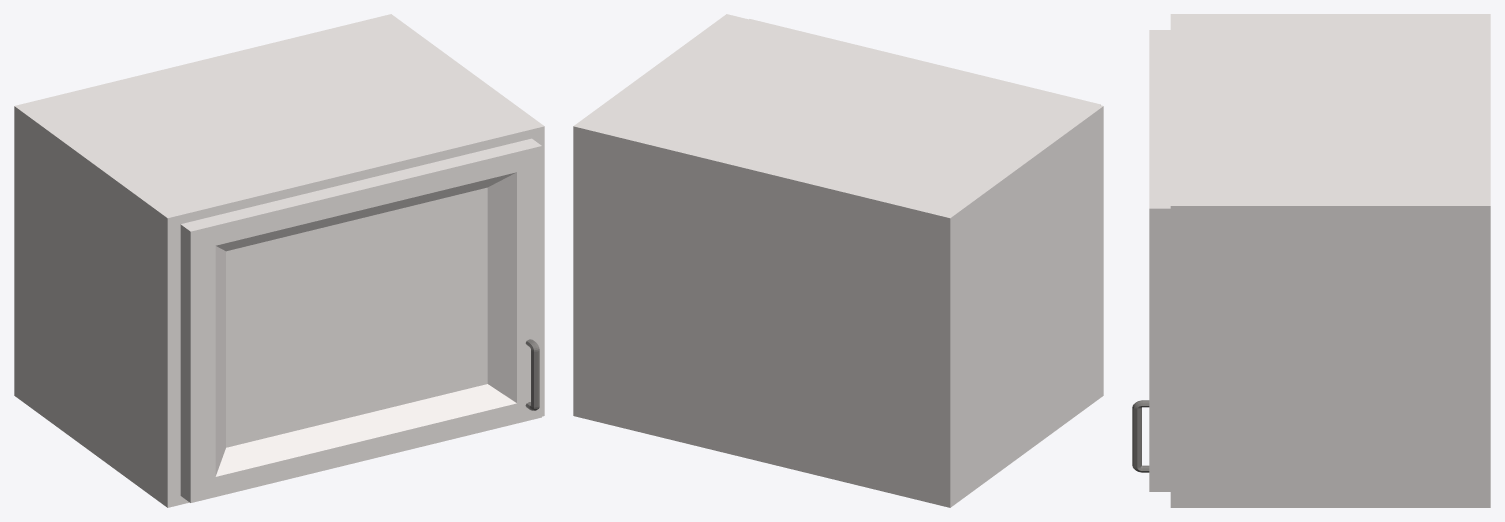
Rendered from Kitchen Tabletop_13.fbx.
The picture shows the model from 3 angles, left to right: view 1: azimuth 30°, elevation 25°; view 2: azimuth 150°, elevation 25°; view 3: azimuth 270°, elevation 25°; orthographic projection. The views are drawn at different scales.
Visible parts, largest first — view 1: Kitchen Tabletop_13; view 2: Kitchen Tabletop_13; view 3: Kitchen Tabletop_13.
Part boxes in pixels (<box>): Kitchen Tabletop_13: <box>14,14,544,507</box>; Kitchen Tabletop_13: <box>573,14,1103,507</box>; Kitchen Tabletop_13: <box>1132,14,1490,507</box>.
Bounding box in the file's own units: 54.31 × 39.87 × 42.84.
